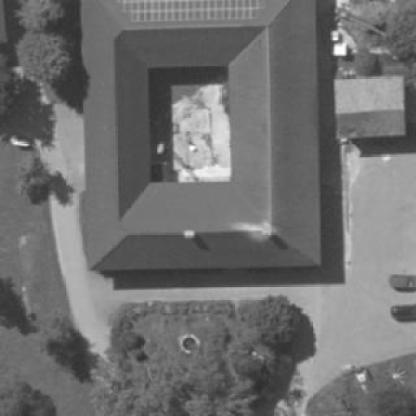solar-pv-panel: (116, 0, 265, 22)
